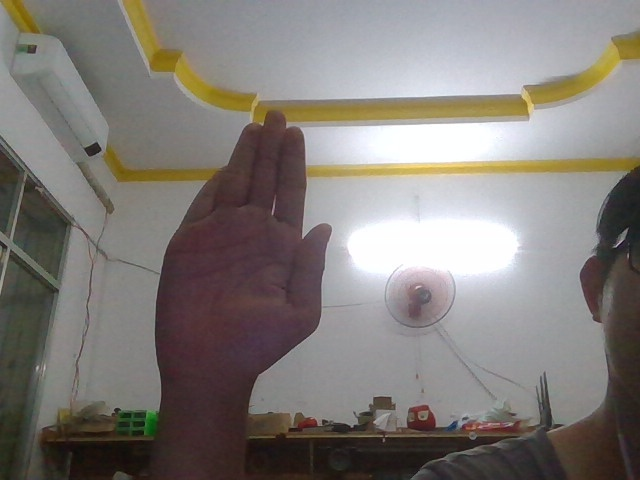stop: (140, 93, 353, 385)
